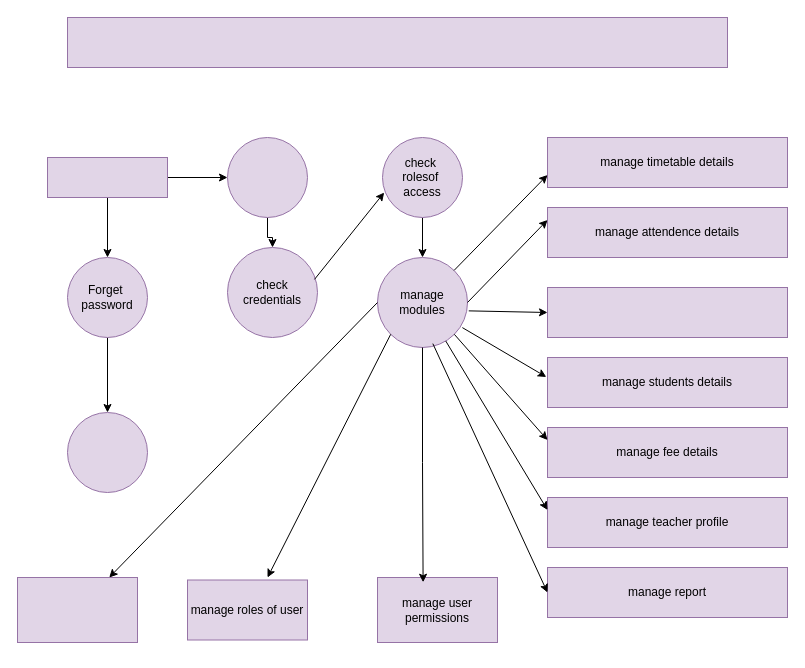
Some shapes in this 805 by 668 pixel diagram are drawn without their labels. The box of each missing label's shape, as (x1, y1, x2, y2) in pixels:
Admin: (46, 156, 168, 198)
login to system: (226, 136, 308, 218)
manage class details: (546, 286, 788, 338)
manage system admins: (16, 576, 138, 642)
send Email to user: (66, 412, 148, 492)
student information system: (66, 16, 728, 68)
